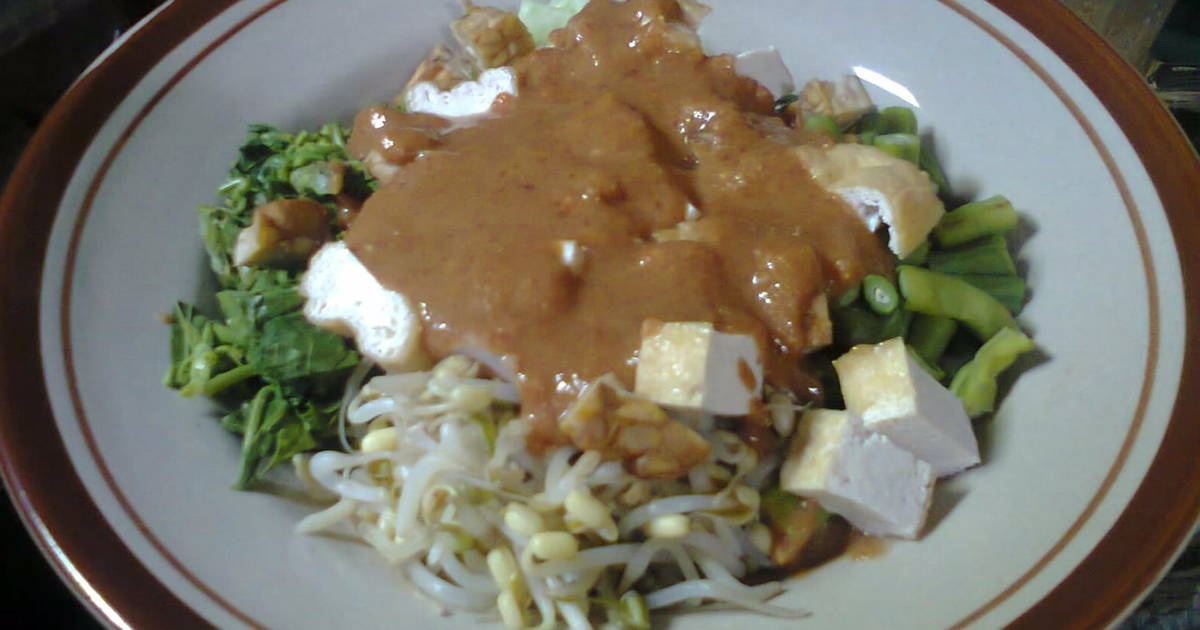pecel: (187, 8, 1046, 605)
